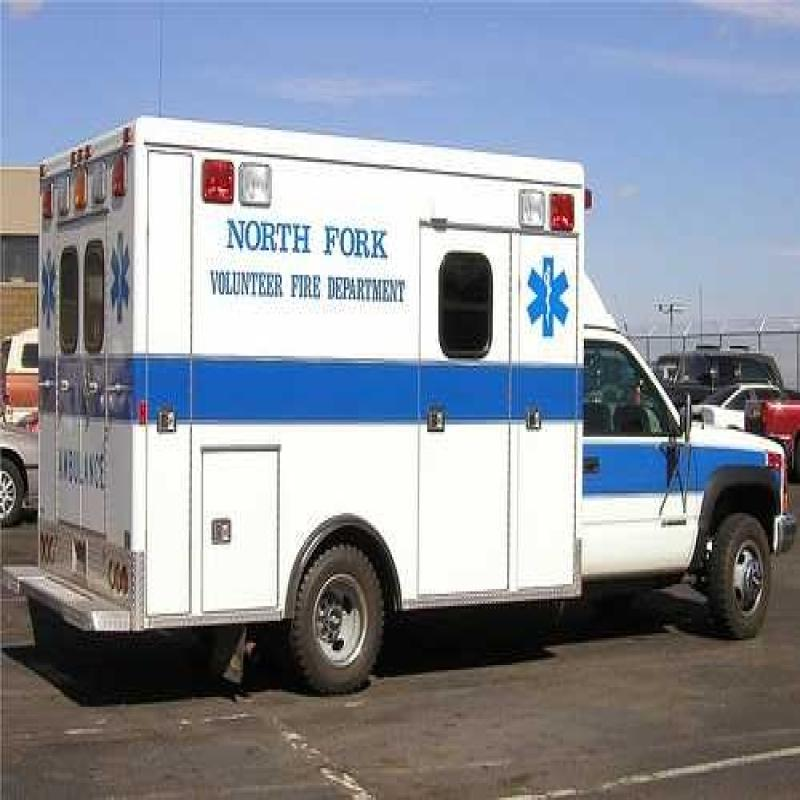ambulance: (36, 107, 800, 672)
